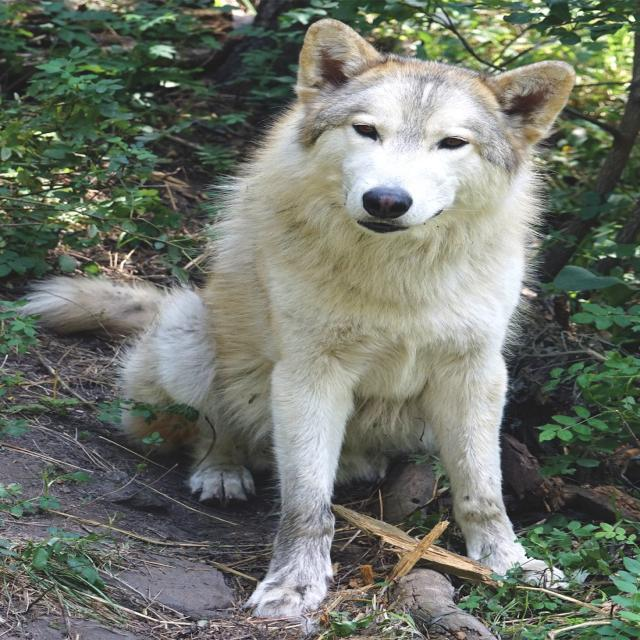wolf: (22, 19, 573, 617)
